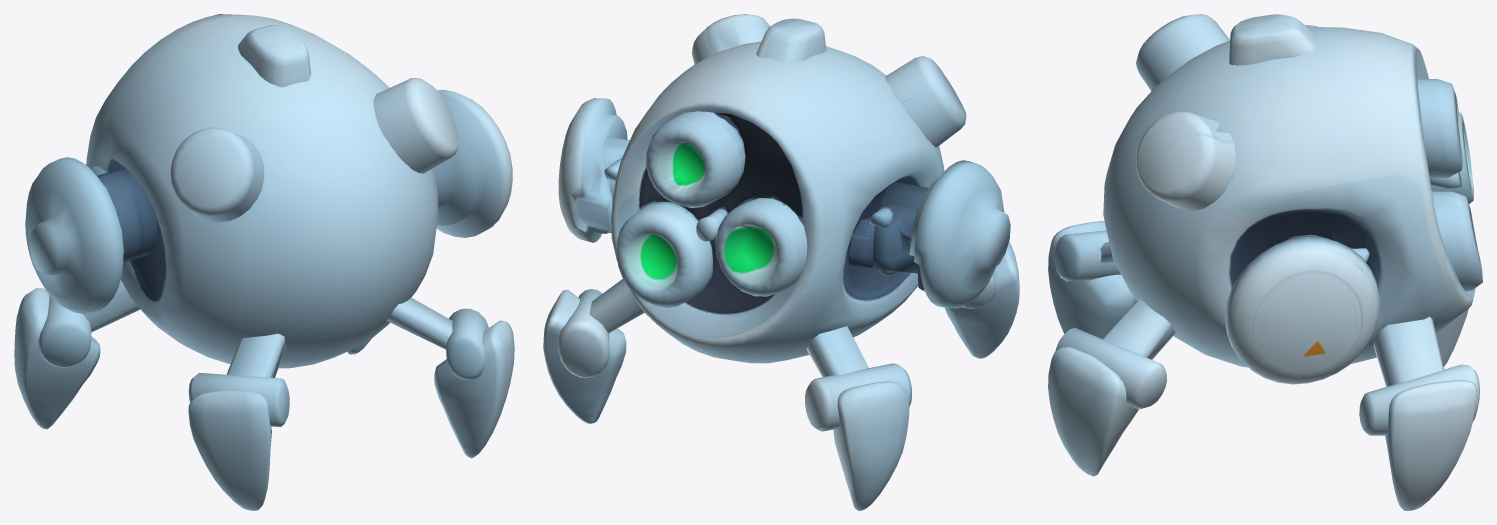
The model's file is partner_drone.glb.
3 renders of one model, left to right at view 1: azimuth 30°, elevation 25°; view 2: azimuth 150°, elevation 25°; view 3: azimuth 270°, elevation 25°, orthographic. The views are drawn at different scales.
Visible parts, largest first — view 1: body, pod_l, leg_bl_2, leg_br_2, leg_fl_2, pod_r, leg_bl_1, leg_br_1, leg_fl_1; view 2: body, pod_l, leg_fl_2, leg_fr_2, pod_r, mod_1, mod_3, mod_2, leg_bl_2, leg_fl_1, core_2, leg_fr_1 (+3 smaller); view 3: body, pod_r, leg_fr_2, leg_br_2, leg_bl_2, mod_1, leg_fr_1, mod_3, leg_br_1, mod_2, leg_fl_2.
Boxes of the visible parts, x1,y1,x2,y2 form: body: (86, 14, 458, 368); pod_l: (25, 157, 157, 313); leg_bl_2: (188, 373, 289, 510); leg_br_2: (434, 308, 514, 458); leg_fl_2: (14, 288, 100, 429); pod_r: (433, 89, 512, 237); leg_bl_1: (226, 333, 286, 377); leg_br_1: (386, 297, 452, 349); leg_fl_1: (83, 280, 140, 332); body: (611, 14, 966, 363); pod_l: (848, 160, 1010, 308); leg_fl_2: (805, 363, 911, 510); leg_fr_2: (543, 289, 626, 423); pod_r: (558, 98, 629, 242); mod_1: (646, 111, 745, 207); mod_3: (616, 202, 712, 307); mod_2: (715, 198, 807, 296); leg_bl_2: (945, 241, 1019, 358); leg_fl_1: (806, 326, 868, 377); core_2: (725, 225, 778, 273); leg_fr_1: (589, 279, 644, 333); body: (1103, 14, 1475, 367); pod_r: (1225, 234, 1379, 384); leg_fr_2: (1359, 364, 1479, 510); leg_br_2: (1048, 327, 1166, 476); leg_bl_2: (1048, 221, 1136, 338); mod_1: (1417, 79, 1463, 178); leg_fr_1: (1373, 316, 1443, 386); mod_3: (1432, 191, 1482, 291); leg_br_1: (1102, 298, 1175, 359); mod_2: (1431, 112, 1473, 203); leg_fl_2: (1436, 308, 1468, 366).
Bounding box in the file's own units: 1.3 × 1.15 × 1.05.
1 material, 1 textured.
